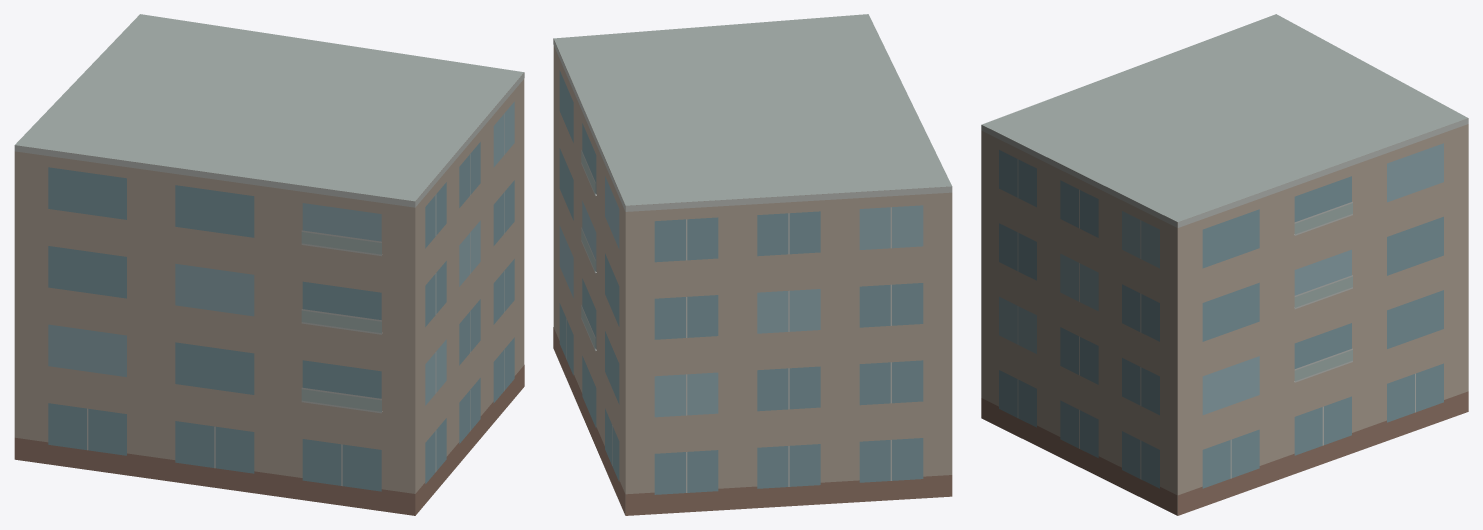
File: survey-upis-32844892.glb
The picture shows the model from 3 angles, left to right: view 1: azimuth 30°, elevation 25°; view 2: azimuth 150°, elevation 25°; view 3: azimuth 270°, elevation 25°; orthographic projection. The views are drawn at different scales.
Visible parts, largest first — view 1: survey-upis-32844892.tmp; view 2: survey-upis-32844892.tmp; view 3: survey-upis-32844892.tmp.
Part boxes in pixels (x1,y1,x2,y2): survey-upis-32844892.tmp: (14,14,524,515); survey-upis-32844892.tmp: (553,14,952,515); survey-upis-32844892.tmp: (981,14,1468,515).
Size of the model in its own units: 18.56 by 12.2 by 18.35.
